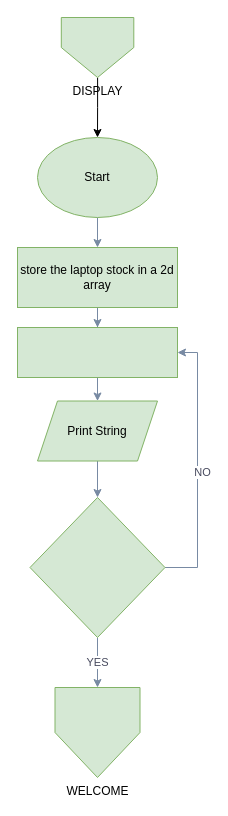
Some shapes in this 228 by 816 pixel diagram are drawn without their labels. Here are the shapes that lost their labels. From the top down, the box of each, then its label:
(16, 326, 178, 378): Calculate the required space and store the line in a string
(29, 496, 165, 638): iterated over 2d array?
